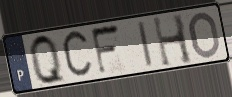C: (60, 27, 95, 82)
F: (89, 22, 122, 78)
H: (150, 12, 195, 70)
I: (136, 19, 155, 69)
O: (188, 11, 222, 60)
Q: (28, 33, 69, 87)
